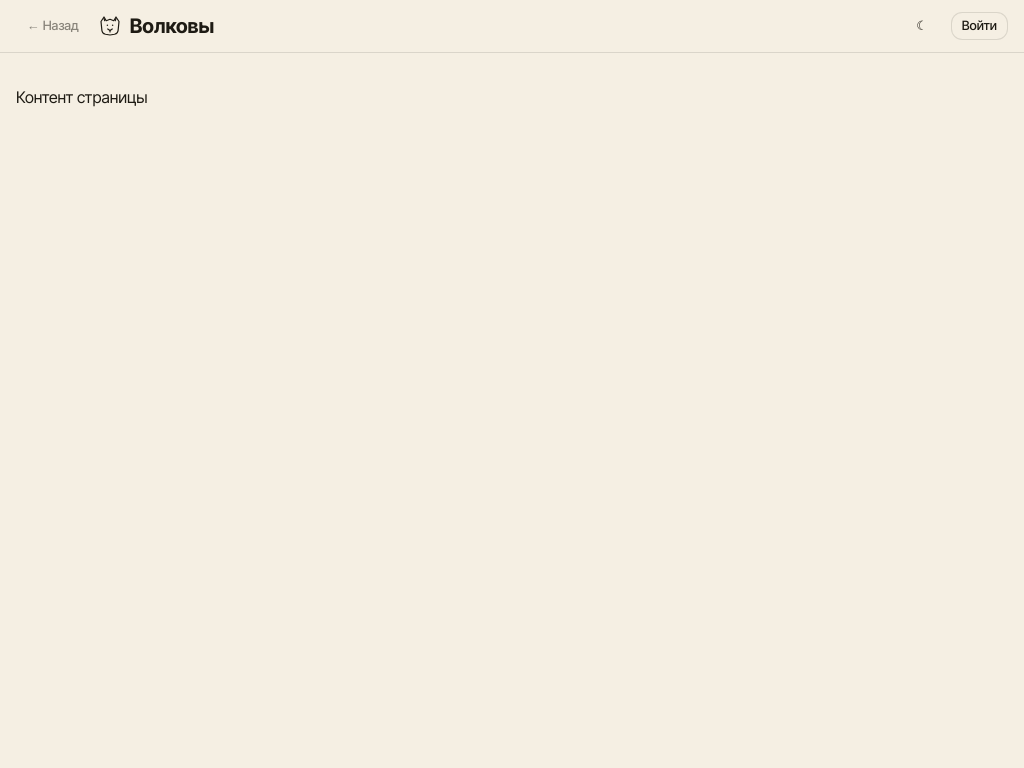
Layout › переключатель темы меняет тему
Click the button named "Тёмная тема" at (922,26), box x1=905 y1=12 x2=939 y2=40
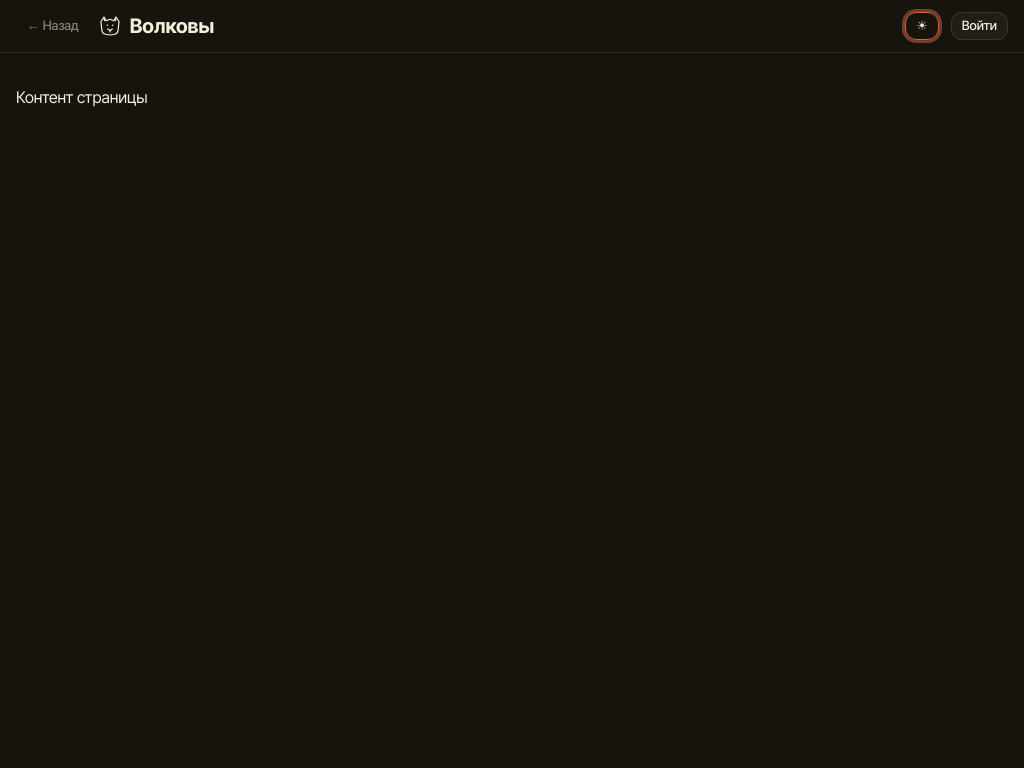
Expected: the button named "Светлая тема" is shown, x1=905 y1=12 x2=939 y2=40
